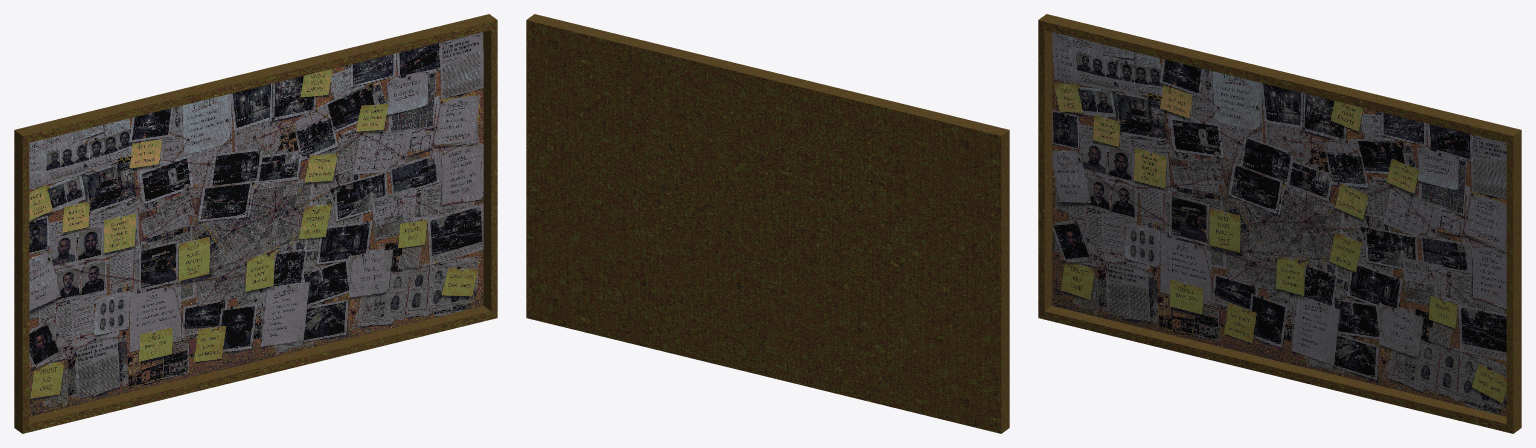
The model's file is Cork Board 07.fbx.
The picture shows the model from 3 angles, left to right: view 1: azimuth 30°, elevation 25°; view 2: azimuth 150°, elevation 25°; view 3: azimuth 330°, elevation 25°; orthographic projection.
Visible parts, largest first — view 1: polySurface111; view 2: polySurface111; view 3: polySurface111.
Boxes of the visible parts, x1,y1,x2,y2 form: polySurface111: [14, 14, 497, 433]; polySurface111: [526, 14, 1009, 433]; polySurface111: [1038, 14, 1521, 433].
Bounding box in the file's own units: 9.46 × 5.67 × 0.2939.
2 materials, 2 textured.
